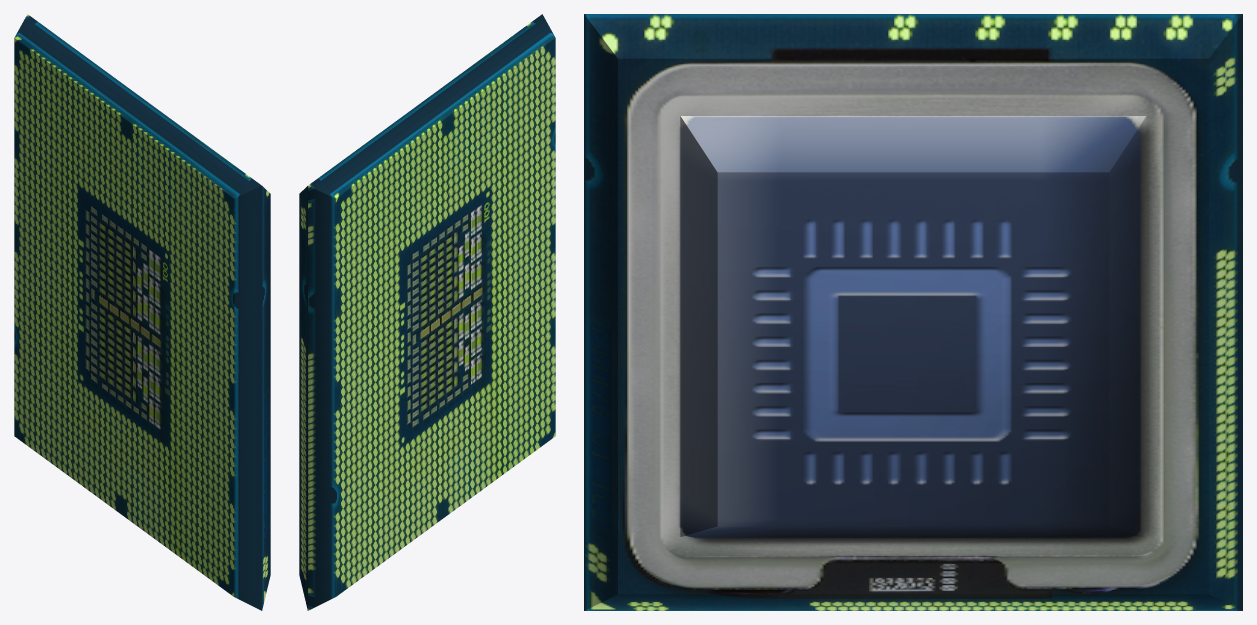
Rendered from processor.obj.
3 renders of one model, left to right at view 1: azimuth 30°, elevation 25°; view 2: azimuth 150°, elevation 25°; view 3: azimuth 270°, elevation 25°, orthographic. The views are drawn at different scales.
Parts seen in each view (by area): view 1: pCube92; view 2: pCube92; view 3: pCube92.
Part boxes in pixels (box(x1,y1,x2,y2)): pCube92: box(14, 14, 270, 610); pCube92: box(299, 14, 555, 610); pCube92: box(584, 14, 1242, 610).
Bounding box in the file's own units: 1.71 × 9.3 × 9.3.
1 material, 1 textured.
